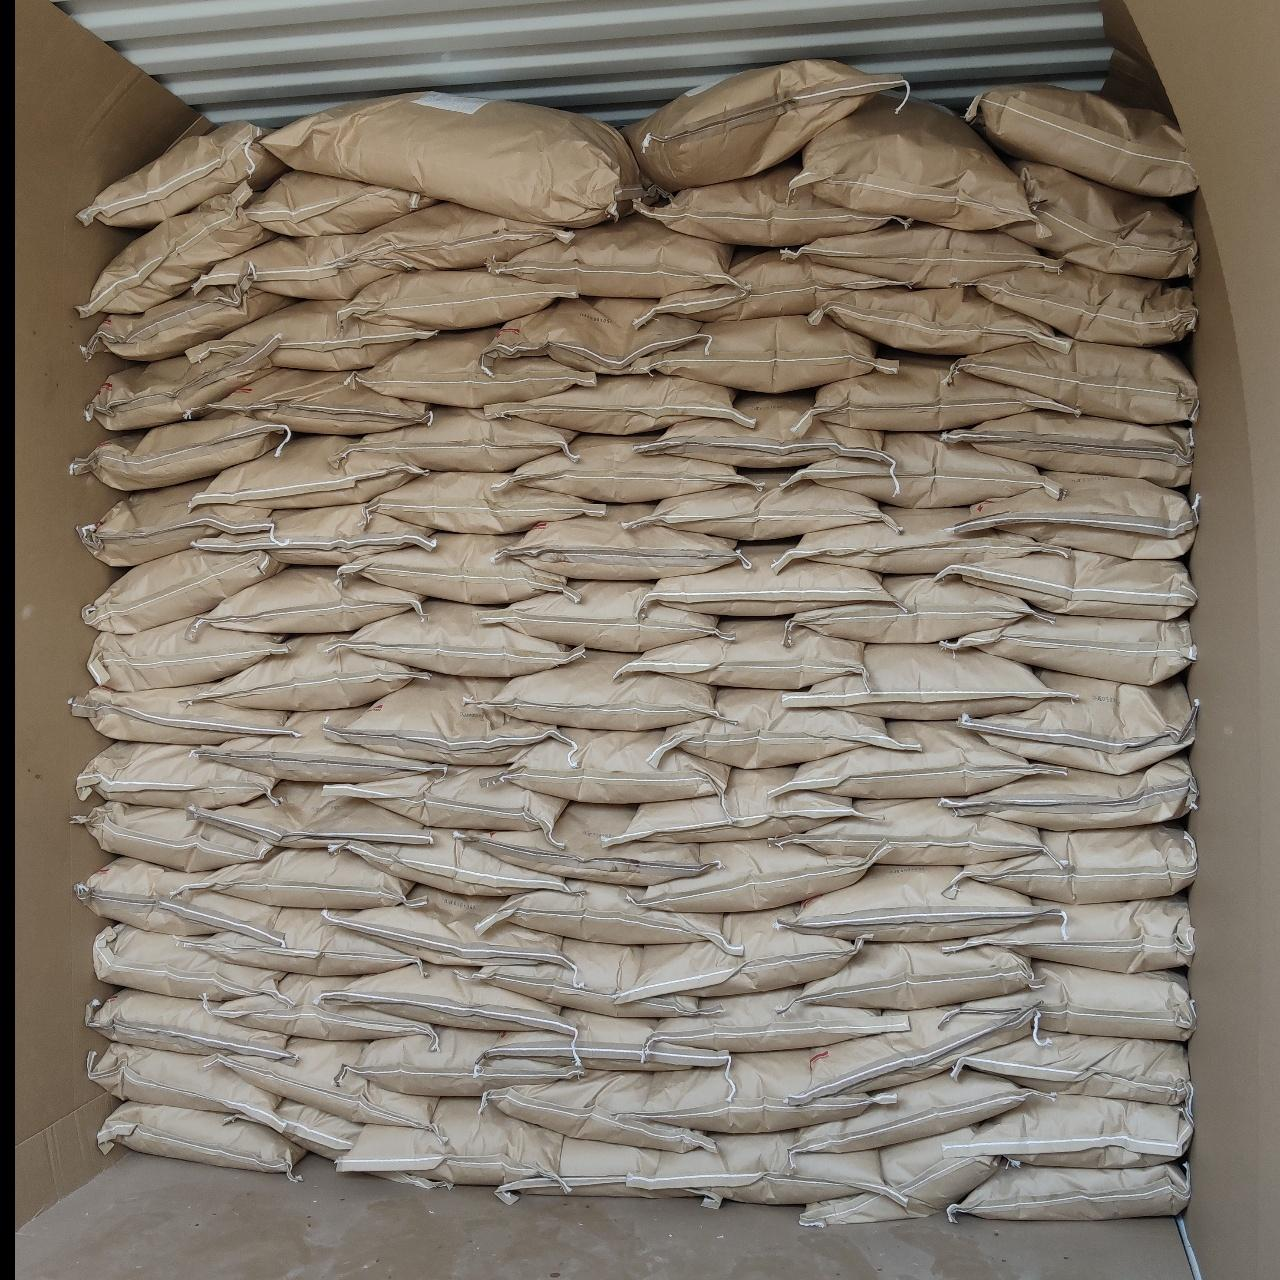sack: (266, 94, 648, 228), (624, 62, 904, 190), (798, 102, 1030, 230), (966, 82, 1192, 196), (80, 186, 270, 314), (960, 674, 1196, 772), (1002, 160, 1196, 278), (638, 162, 908, 246), (794, 1008, 1028, 1102), (78, 120, 280, 228), (784, 644, 1070, 718), (790, 722, 1058, 798), (634, 908, 860, 998), (950, 340, 1196, 422), (606, 766, 854, 846), (652, 690, 912, 766), (956, 474, 1196, 556), (226, 1100, 447, 1189), (942, 960, 1194, 1038), (334, 676, 556, 764), (786, 866, 1050, 940), (774, 506, 1060, 574), (220, 1040, 436, 1130), (640, 1050, 876, 1132), (794, 1070, 1034, 1150), (486, 216, 732, 294), (474, 804, 712, 884), (786, 434, 1056, 504), (810, 356, 1060, 430), (960, 824, 1196, 902), (330, 886, 560, 966), (942, 412, 1190, 486), (944, 756, 1198, 828), (342, 600, 582, 676), (944, 898, 1190, 972), (972, 262, 1196, 342), (470, 652, 712, 726), (642, 394, 884, 468), (650, 316, 892, 390), (340, 1100, 558, 1182), (804, 1132, 998, 1224), (478, 884, 740, 952), (470, 940, 710, 1014), (778, 224, 1060, 286), (358, 330, 588, 406), (634, 252, 876, 324), (808, 288, 1068, 354), (640, 544, 892, 612), (656, 1132, 892, 1204), (82, 549, 284, 633), (484, 1074, 706, 1150), (478, 582, 718, 652), (200, 712, 438, 782), (776, 800, 1044, 862), (320, 768, 564, 836), (196, 436, 420, 510), (484, 298, 702, 374), (944, 616, 1194, 682), (508, 508, 736, 580), (78, 858, 278, 940), (790, 576, 1038, 642), (964, 1030, 1190, 1102), (638, 840, 870, 910), (210, 636, 428, 710), (504, 730, 726, 802), (620, 620, 862, 686), (338, 534, 566, 604), (634, 474, 882, 538), (192, 232, 424, 300), (940, 552, 1194, 614), (190, 302, 436, 366), (80, 482, 270, 564), (80, 284, 290, 358), (656, 988, 906, 1050), (510, 436, 752, 500), (976, 1094, 1190, 1166), (328, 966, 568, 1030), (88, 346, 270, 430), (70, 416, 288, 486), (348, 1028, 578, 1094), (98, 1102, 302, 1174), (338, 408, 574, 470), (200, 370, 428, 434), (802, 942, 1030, 1006), (190, 910, 418, 974), (194, 784, 428, 846), (344, 830, 570, 894), (208, 976, 434, 1040), (88, 1042, 278, 1118), (486, 1010, 726, 1070), (368, 472, 606, 532), (194, 504, 432, 564), (486, 376, 750, 430), (498, 1138, 718, 1202), (196, 568, 422, 630), (88, 990, 288, 1060), (90, 616, 286, 686), (94, 924, 278, 998), (366, 202, 570, 268), (178, 850, 408, 908), (78, 802, 272, 870), (954, 1164, 1188, 1220), (342, 270, 574, 326), (245, 169, 437, 236), (72, 686, 292, 742), (78, 744, 276, 806)
